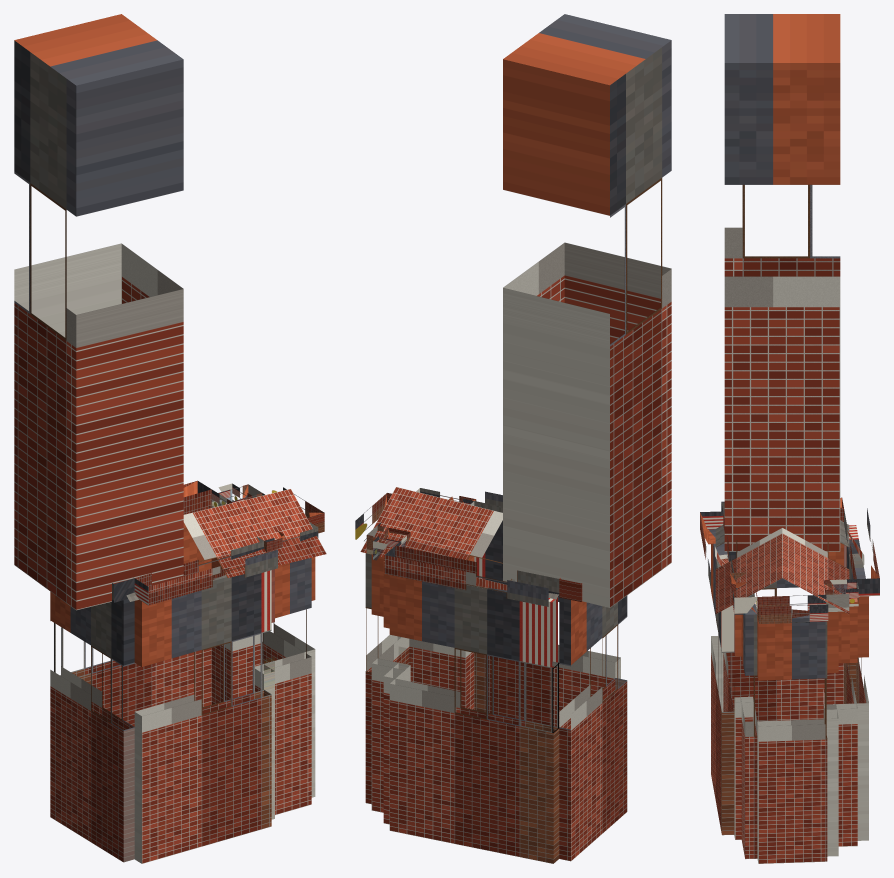
3 renders of one model, left to right at view 1: azimuth 30°, elevation 25°; view 2: azimuth 150°, elevation 25°; view 3: azimuth 270°, elevation 25°, orthographic. The views are drawn at different scales.
Parts seen in each view (by area): view 1: 785641404__chimney_0_xb, 785641404__wall_7_xb, 785641404__wall_0_xb, 785641404__wall_5_xb, 785641404_roof_-1_xb, 785641404__wall_1_xb, 785641404__cornice_7, 785641404__wall_4_xb, 785641404__wall_3_xb, 785641404__wall_6_xb, 785641404__wall_2_xb, 785641404__cornice_1; view 2: 785641404__chimney_0_xb, 785641404__wall_1_xb, 785641404__wall_0_xb, 785641404__wall_7_xb, 785641404_roof_1_xb, 785641404__cornice_1, 785641404__wall_3_xb, 785641404__wall_5_xb, 785641404__wall_4_xb, 785641404__wall_2_xb, 785641404__wall_6_xb; view 3: 785641404__chimney_0_xb, 785641404__wall_4_xb, 785641404__wall_7_xb, 785641404__wall_0_xb, 785641404__wall_2_xb, 785641404__wall_1_xb, 785641404__wall_5_xb, 785641404_roof_-1_xb, 785641404_roof_1_xb, 785641404__wall_3_xb, 785641404__wall_6_xb, 785641404__cornice_4 (+5 smaller).
Part boxes in pixels (left/top/right/bottom): 785641404__chimney_0_xb: left=14, top=14, right=183, bottom=610; 785641404__wall_7_xb: left=134, top=570, right=271, bottom=863; 785641404__wall_0_xb: left=50, top=592, right=134, bottom=862; 785641404__wall_5_xb: left=262, top=558, right=311, bottom=814; 785641404_roof_-1_xb: left=126, top=489, right=326, bottom=601; 785641404__wall_1_xb: left=54, top=522, right=211, bottom=726; 785641404__cornice_7: left=134, top=541, right=277, bottom=605; 785641404__wall_4_xb: left=262, top=557, right=315, bottom=797; 785641404__wall_3_xb: left=232, top=634, right=260, bottom=698; 785641404__wall_6_xb: left=252, top=569, right=274, bottom=819; 785641404__wall_2_xb: left=211, top=558, right=230, bottom=704; 785641404__cornice_1: left=183, top=480, right=211, bottom=514; 785641404__chimney_0_xb: left=503, top=14, right=671, bottom=607; 785641404__wall_1_xb: left=389, top=575, right=559, bottom=863; 785641404__wall_0_xb: left=559, top=595, right=627, bottom=861; 785641404__wall_7_xb: left=474, top=525, right=620, bottom=726; 785641404_roof_1_xb: left=360, top=487, right=558, bottom=599; 785641404__cornice_1: left=384, top=545, right=559, bottom=606; 785641404__wall_3_xb: left=371, top=555, right=404, bottom=812; 785641404__wall_5_xb: left=409, top=638, right=465, bottom=707; 785641404__wall_4_xb: left=365, top=553, right=409, bottom=804; 785641404__wall_2_xb: left=383, top=561, right=410, bottom=824; 785641404__wall_6_xb: left=465, top=556, right=474, bottom=709; 785641404__chimney_0_xb: left=724, top=14, right=840, bottom=551; 785641404__wall_4_xb: left=757, top=615, right=827, bottom=863; 785641404__wall_7_xb: left=711, top=543, right=734, bottom=835; 785641404__wall_0_xb: left=726, top=543, right=843, bottom=721; 785641404__wall_2_xb: left=826, top=598, right=857, bottom=846; 785641404__wall_1_xb: left=844, top=525, right=868, bottom=840; 785641404__wall_5_xb: left=740, top=603, right=757, bottom=859; 785641404_roof_-1_xb: left=715, top=525, right=782, bottom=613; 785641404_roof_1_xb: left=782, top=520, right=849, bottom=613; 785641404__wall_3_xb: left=823, top=611, right=838, bottom=856; 785641404__wall_6_xb: left=734, top=613, right=753, bottom=839; 785641404__cornice_4: left=757, top=594, right=828, bottom=623.
Size of the model in its own units: 0.3729 by 1.05 by 0.2333.
Materials: 1 (1 with a texture image).
